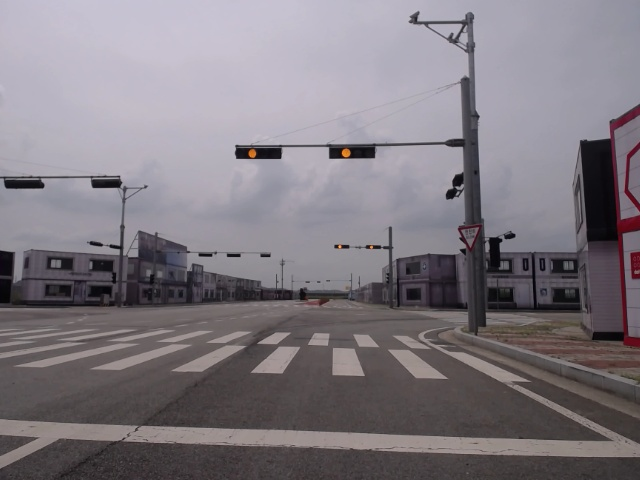orange_4: (327, 143, 376, 160), (235, 145, 282, 162), (362, 243, 382, 251), (332, 243, 352, 250)
